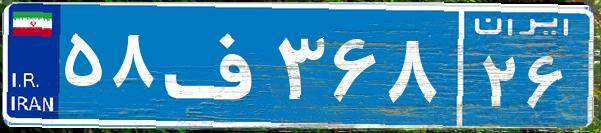2: (475, 38, 525, 113)
3: (273, 28, 330, 110)
5: (57, 26, 110, 107)
6: (330, 28, 385, 110), (525, 38, 570, 115)
8: (385, 28, 445, 110), (110, 28, 158, 105)
ف: (158, 15, 273, 115)
